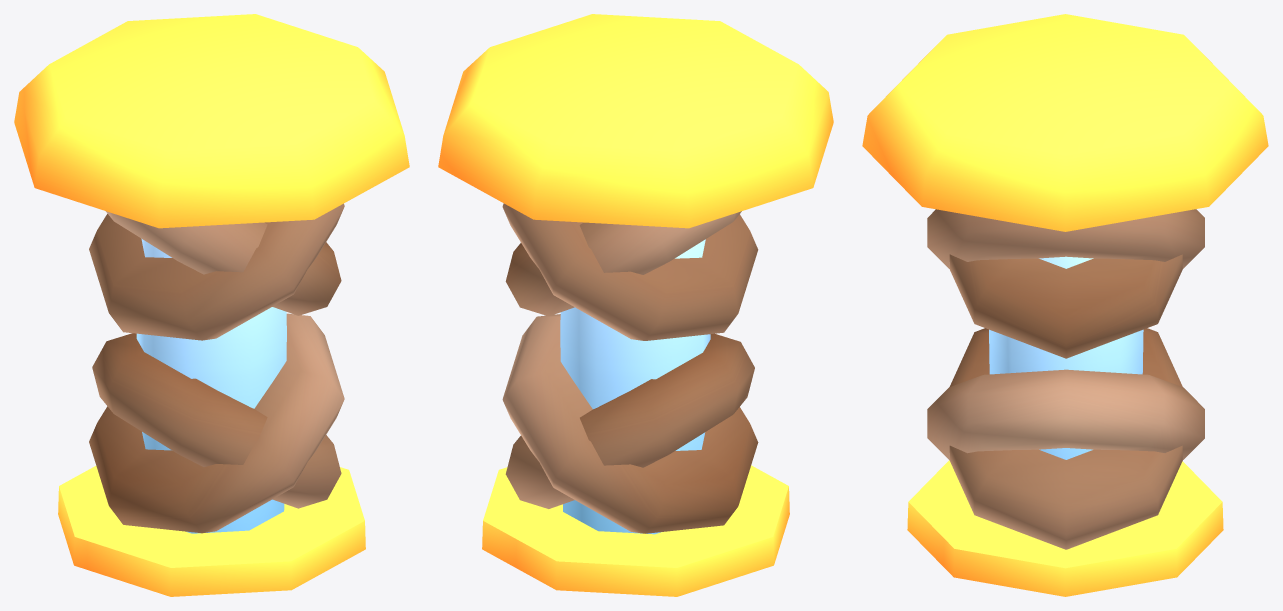
File: gold_and_steel_grip_061.glb
3 renders of one model, left to right at view 1: azimuth 30°, elevation 25°; view 2: azimuth 150°, elevation 25°; view 3: azimuth 270°, elevation 25°, orthographic.
Parts seen in each view (by area): view 1: gold_and_steel_grip_061; view 2: gold_and_steel_grip_061; view 3: gold_and_steel_grip_061.
Part boxes in pixels (x1,y1,x2,y2): gold_and_steel_grip_061: (14, 14, 409, 596); gold_and_steel_grip_061: (438, 14, 833, 596); gold_and_steel_grip_061: (862, 14, 1268, 596).
Bounding box in the file's own units: 2.62 × 3.16 × 2.62.
Materials: 1 (1 with a texture image).
